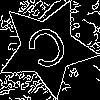C: (22, 22, 77, 81)
